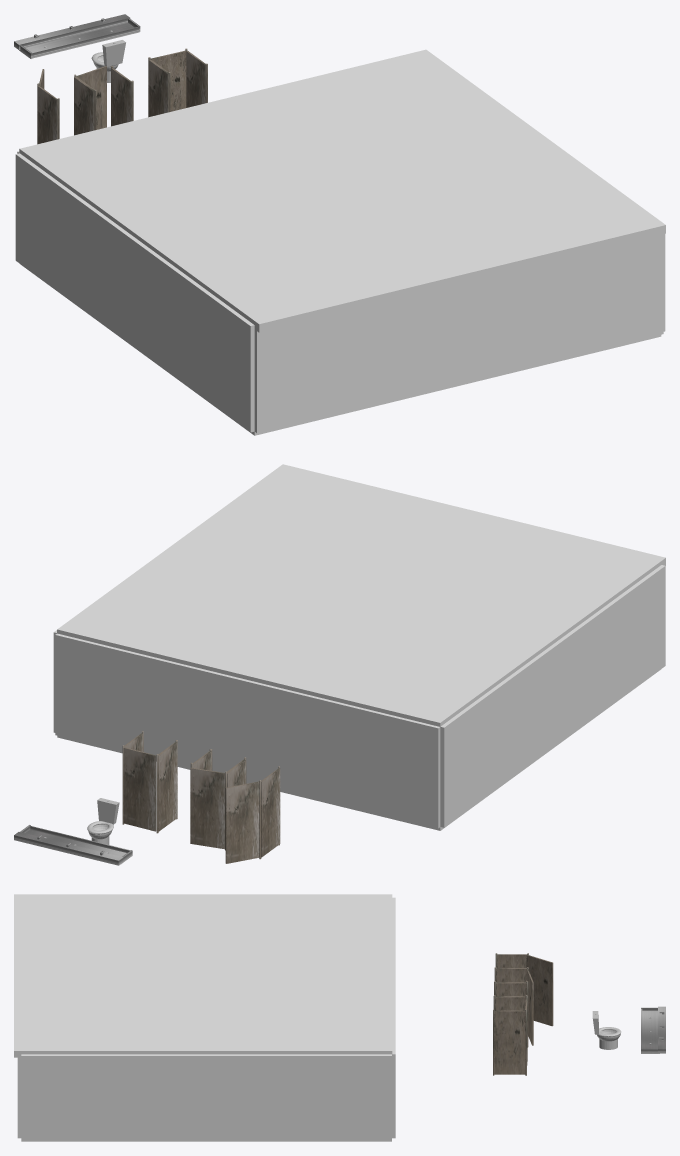
Rendered from Wasbak2.0.fbx.
The picture shows the model from 3 angles, top to bottom: view 1: azimuth 30°, elevation 25°; view 2: azimuth 150°, elevation 25°; view 3: azimuth 270°, elevation 25°; orthographic projection. The views are drawn at different scales.
Parts seen in each view (by area): view 1: Cube.002, Cube.004, Cube.006, Cube.007, Cube.014, Cube.001, Cylinder.001; view 2: Cube.002, Cube.003, Cube.006, Cube.007, Cube.014, Cylinder.001, Cube.001; view 3: Cube.002, Cube.005, Cube.007, Cube.014, Cube.003, Cube.001, Cylinder.001, Cube.004.
Boxes of the visible parts, x1=… form: Cube.002: x1=19, y1=49, x2=665, y2=332; Cube.004: x1=254, y1=234, x2=663, y2=433; Cube.006: x1=15, y1=153, x2=254, y2=432; Cube.007: x1=37, y1=48, x2=207, y2=144; Cube.014: x1=14, y1=14, x2=140, y2=58; Cube.001: x1=20, y1=264, x2=661, y2=435; Cylinder.001: x1=91, y1=40, x2=125, y2=82; Cube.002: x1=57, y1=464, x2=665, y2=726; Cube.003: x1=55, y1=633, x2=440, y2=828; Cube.006: x1=440, y1=565, x2=665, y2=827; Cube.007: x1=122, y1=731, x2=280, y2=863; Cube.014: x1=14, y1=825, x2=132, y2=865; Cylinder.001: x1=87, y1=798, x2=119, y2=844; Cube.001: x1=57, y1=669, x2=660, y2=830; Cube.002: x1=14, y1=894, x2=392, y2=1057; Cube.005: x1=21, y1=1054, x2=391, y2=1139; Cube.007: x1=493, y1=953, x2=553, y2=1075; Cube.014: x1=641, y1=1006, x2=665, y2=1053; Cube.003: x1=392, y1=897, x2=395, y2=1138; Cube.001: x1=21, y1=1140, x2=391, y2=1141; Cylinder.001: x1=592, y1=1011, x2=621, y2=1049; Cube.004: x1=17, y1=1054, x2=21, y2=1138.
Size of the model in its own units: 4080 by 1080 by 7036.
